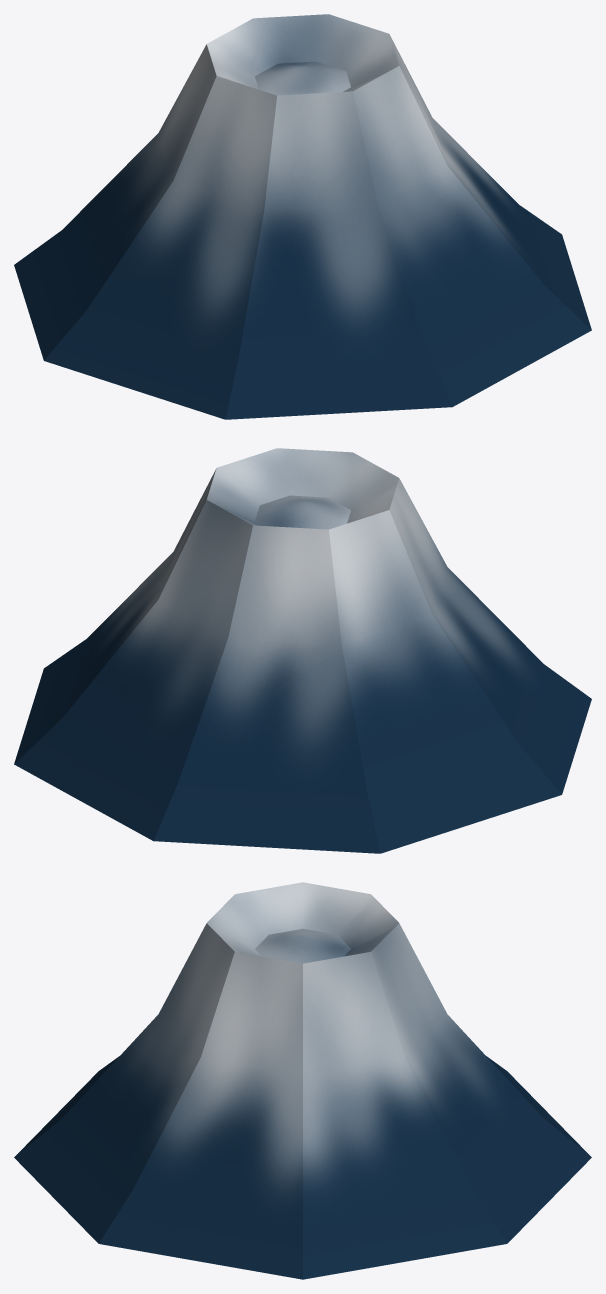
3 renders of one model, top to bottom at view 1: azimuth 30°, elevation 25°; view 2: azimuth 150°, elevation 25°; view 3: azimuth 270°, elevation 25°, orthographic. The views are drawn at different scales.
Visible parts, largest first — view 1: ポリゴンメッシュ; view 2: ポリゴンメッシュ; view 3: ポリゴンメッシュ.
Part boxes in pixels (x1=…): ポリゴンメッシュ: x1=14, y1=14, x2=591, y2=419; ポリゴンメッシュ: x1=14, y1=448, x2=591, y2=853; ポリゴンメッシュ: x1=14, y1=882, x2=591, y2=1279.
Bounding box in the file's own units: 201 × 90 × 201.
Materials: 1 (1 with a texture image).
